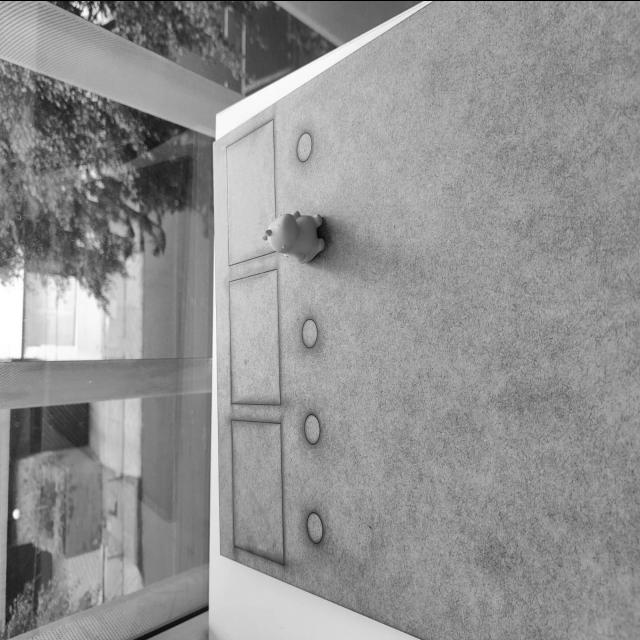DINO: (263, 200, 331, 274)
